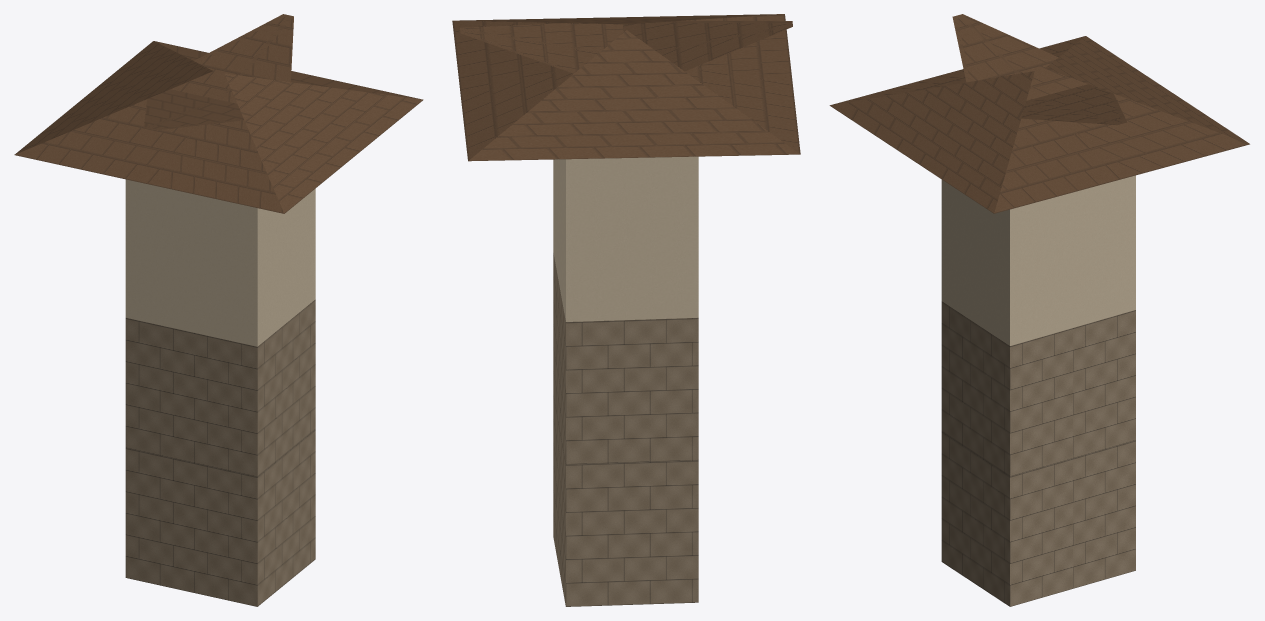
File: bld_c37_47_195.gltf
3 views of the same model, side by side, from view 1: azimuth 30°, elevation 25°; view 2: azimuth 150°, elevation 25°; view 3: azimuth 270°, elevation 25° (orthographic). The views are drawn at different scales.
Parts seen in each view (by area): view 1: bld_c37_47_195; view 2: bld_c37_47_195; view 3: bld_c37_47_195.
Boxes of the visible parts, <box> form: bld_c37_47_195: <box>14,14,423,606</box>; bld_c37_47_195: <box>452,14,800,606</box>; bld_c37_47_195: <box>829,14,1249,606</box>.
Bounding box in the file's own units: 6.91 × 9 × 6.91.
Materials: 3 (3 with a texture image).
